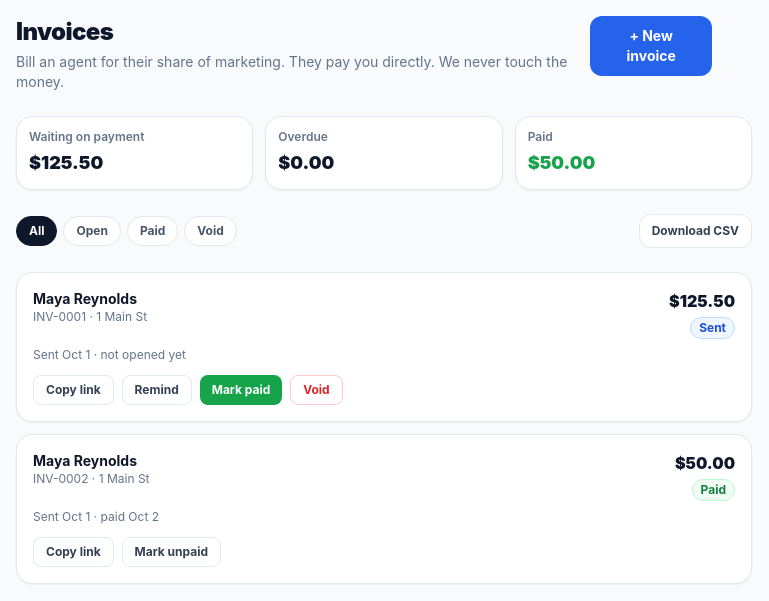
Scenario: LOInvoicesPage › lists invoices with the money summary and filters them
Expected: the text "INV-0001 · 1 Main St" is shown, [33,309,147,325]
Expected: the text "INV-0002 · 1 Main St" is shown, [33,471,150,487]
Click the tab "paid" at (153, 231), box [127,216,178,246]
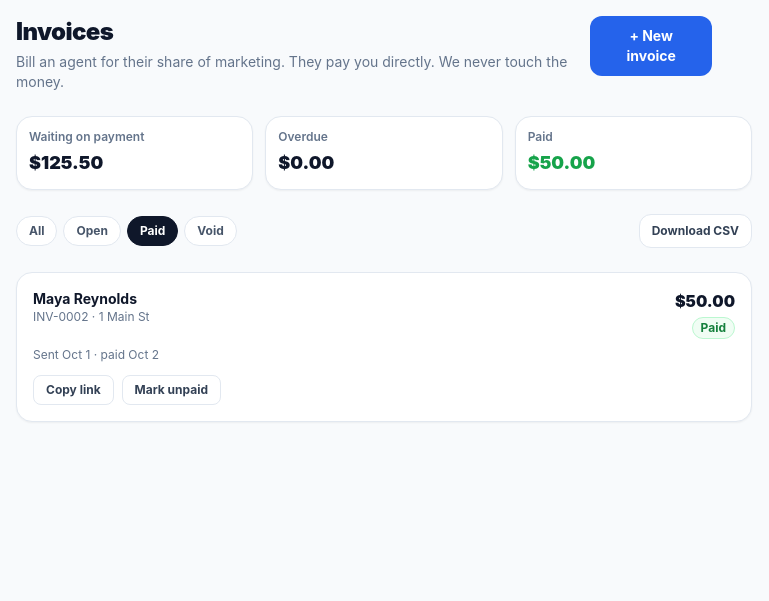
Expected: the text "INV-0002 · 1 Main St" is shown, [33,309,150,325]
Now the text "INV-0001 · 1 Main St" is gone
